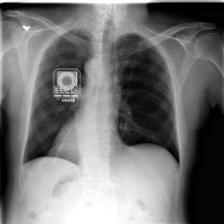normal: (18, 24, 185, 176)
